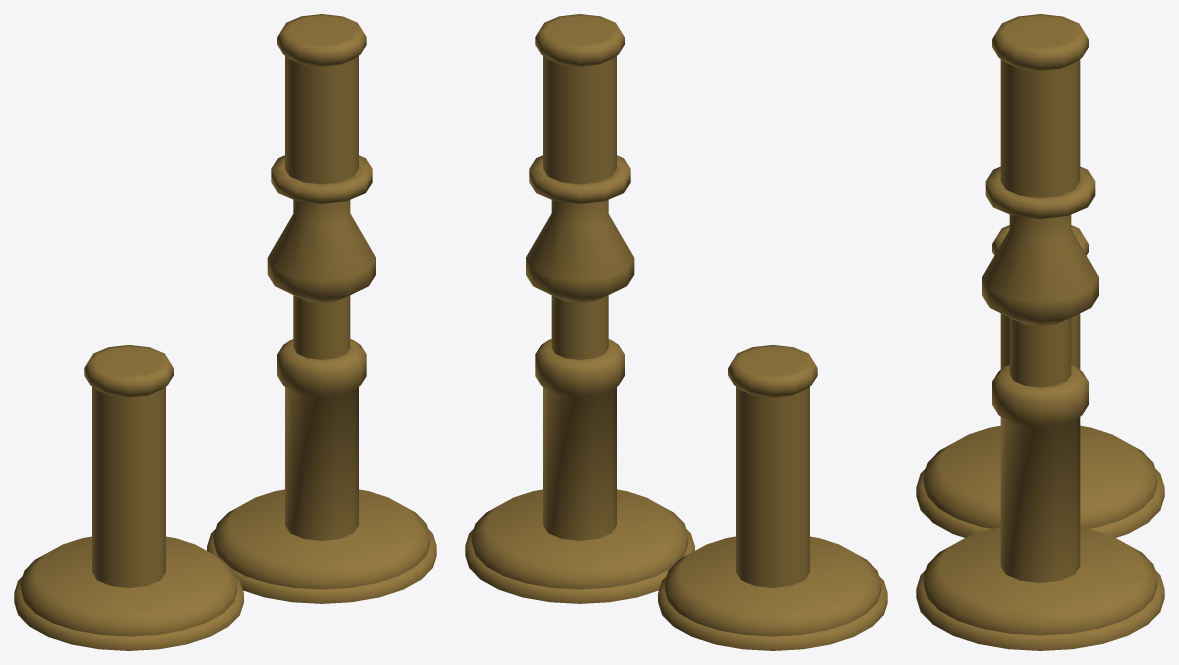
The model's file is DI_016_candle_stand_var01.glb.
The picture shows the model from 3 angles, left to right: view 1: azimuth 30°, elevation 25°; view 2: azimuth 150°, elevation 25°; view 3: azimuth 270°, elevation 25°; orthographic projection. The views are drawn at different scales.
Visible parts, largest first — view 1: CandleStand.002; view 2: CandleStand.002; view 3: CandleStand.002.
Boxes of the visible parts, x1,y1,x2,y2 form: CandleStand.002: [14, 14, 436, 650]; CandleStand.002: [465, 14, 887, 650]; CandleStand.002: [916, 14, 1164, 650].
Bounding box in the file's own units: 1.52 × 1.95 × 0.7735.
